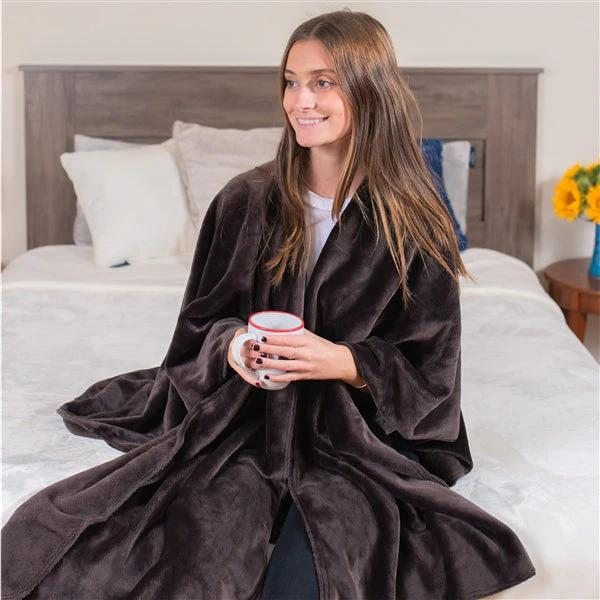blanket: (0, 161, 540, 600)
